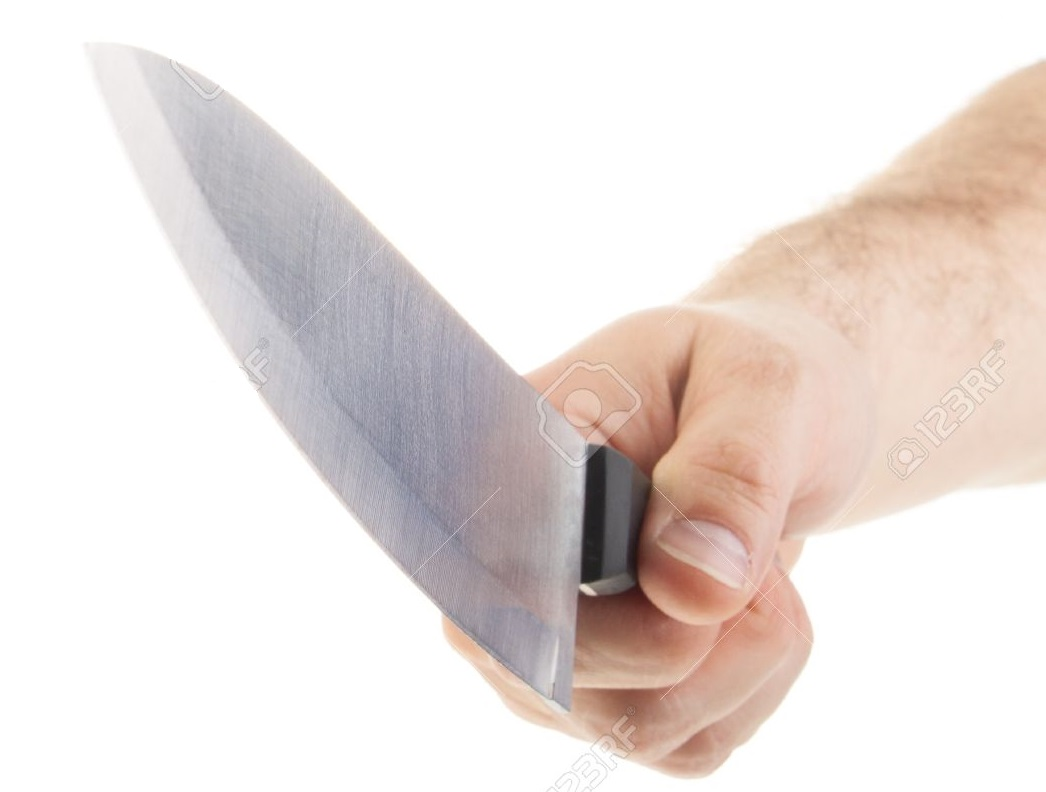knife: (62, 25, 789, 749)
